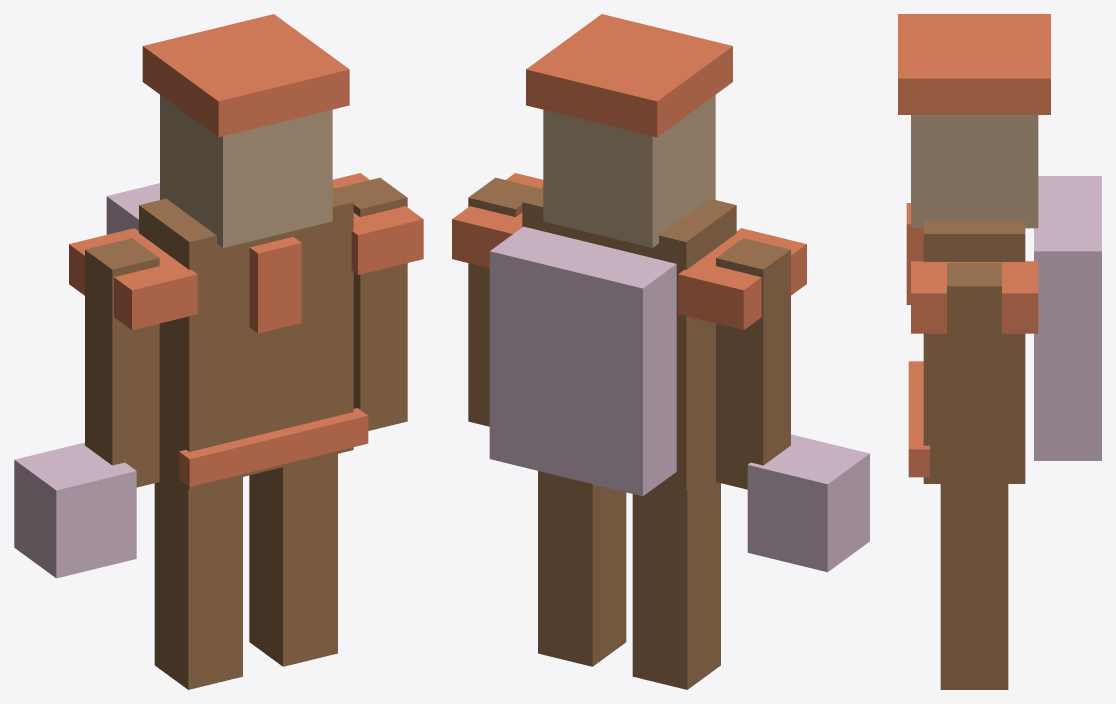
The model's file is 06_auren_whispercoil_fixer_near_ember.glb.
The picture shows the model from 3 angles, left to right: view 1: azimuth 30°, elevation 25°; view 2: azimuth 150°, elevation 25°; view 3: azimuth 270°, elevation 25°; orthographic projection.
Parts seen in each view (by area): view 1: Auren Whispercoil, Fixer near Ember; view 2: Auren Whispercoil, Fixer near Ember; view 3: Auren Whispercoil, Fixer near Ember.
Part boxes in pixels (bbox=[...]): Auren Whispercoil, Fixer near Ember: bbox=[14, 14, 423, 689]; Auren Whispercoil, Fixer near Ember: bbox=[452, 14, 869, 689]; Auren Whispercoil, Fixer near Ember: bbox=[898, 14, 1101, 689].
Bounding box in the file's own units: 1.02 × 1.62 × 0.4941.
